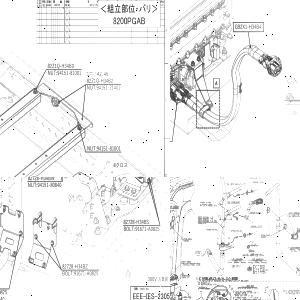PartNumber: (47, 62, 75, 69), (86, 77, 114, 84), (234, 24, 262, 30), (38, 182, 62, 189), (136, 226, 160, 233), (97, 84, 120, 91), (62, 263, 88, 269), (123, 218, 149, 224), (57, 70, 81, 76), (97, 145, 120, 151), (74, 271, 99, 276), (27, 177, 54, 180), (0, 289, 7, 295), (200, 202, 211, 204), (253, 181, 264, 183), (250, 212, 261, 214), (251, 225, 262, 227), (250, 177, 260, 179), (182, 260, 191, 262), (183, 238, 192, 240), (198, 220, 207, 222), (198, 219, 207, 221), (198, 216, 207, 218), (182, 274, 190, 276), (198, 218, 206, 220), (230, 230, 241, 231), (261, 235, 270, 236), (290, 247, 299, 248), (296, 228, 300, 230), (297, 229, 300, 231)
